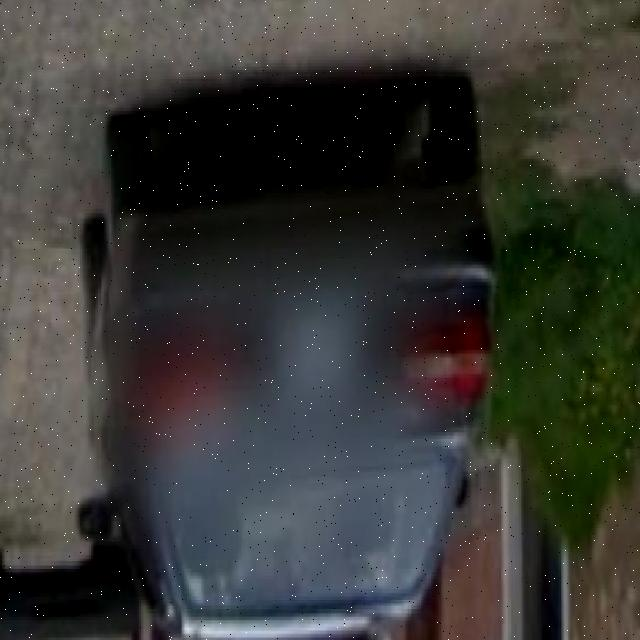car: (96, 80, 502, 630)
